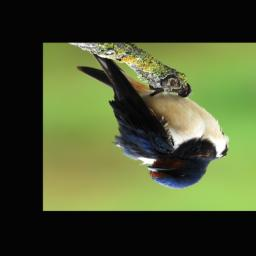Swallow: (75, 51, 231, 190)
